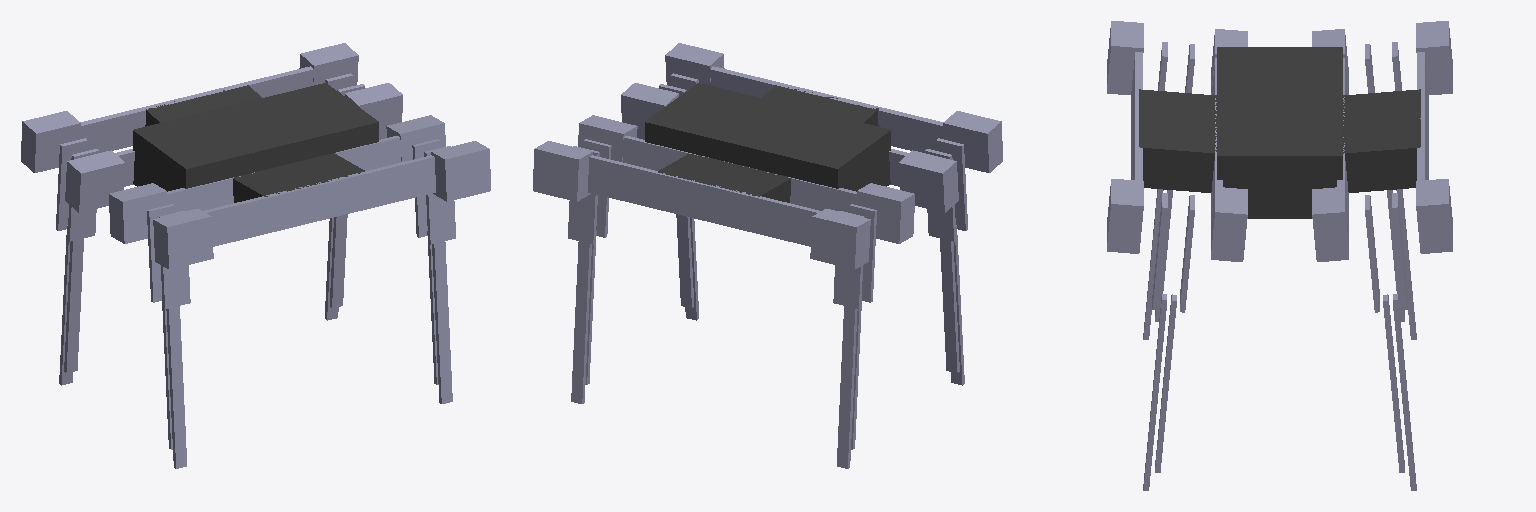
--- What the picture shows (computed from the rendered views, not written in the file) ---
Views: 3 orthographic renders of the robot side by side, from view 1: azimuth 30°, elevation 25°; view 2: azimuth 150°, elevation 25°; view 3: azimuth 270°, elevation 25°.
Model quadruped with 27 links and 26 joints (16 continuous, 10 fixed), rooted at base_chassis_link, posed every joint at zero.
Visible links, largest first — view 1: chassis_right, base_chassis_link, chassis_left, lower_leg_front_rightR_link, lower_leg_back_rightR_link, lower_leg_back_leftR_link, upper_leg_front_rightR_link, lower_leg_front_leftR_link, upper_leg_back_rightR_link, upper_leg_back_leftL_link, upper_leg_back_rightL_link, upper_leg_back_leftR_link (+5 smaller); view 2: chassis_left, base_chassis_link, chassis_right, lower_leg_front_leftL_link, lower_leg_back_leftL_link, lower_leg_back_rightL_link, upper_leg_front_leftL_link, lower_leg_front_rightL_link, upper_leg_back_leftL_link, upper_leg_back_rightR_link, upper_leg_back_leftR_link, upper_leg_back_rightL_link (+5 smaller); view 3: base_chassis_link, chassis_right, chassis_left, lower_leg_front_rightR_link, lower_leg_front_leftL_link, lower_leg_front_rightL_link, lower_leg_front_leftR_link, lower_leg_back_rightR_link, lower_leg_back_leftL_link, upper_leg_front_rightR_link, upper_leg_front_leftL_link, upper_leg_front_rightL_link (+1 smaller).
Boxes of the visible links, x1,y1,x2,y2 form: chassis_right: (109, 115, 490, 269); base_chassis_link: (133, 83, 378, 191); chassis_left: (21, 43, 402, 212); lower_leg_front_rightR_link: (432, 241, 452, 403); lower_leg_back_rightR_link: (166, 306, 186, 468); lower_leg_back_leftR_link: (64, 239, 83, 372); upper_leg_front_rightR_link: (424, 146, 455, 244); lower_leg_front_leftR_link: (330, 214, 347, 308); upper_leg_back_rightR_link: (159, 211, 190, 308); upper_leg_back_leftL_link: (56, 138, 87, 230); upper_leg_back_rightL_link: (147, 204, 174, 302); upper_leg_back_leftR_link: (67, 149, 99, 241); chassis_left: (533, 115, 914, 269); base_chassis_link: (645, 83, 890, 191); chassis_right: (621, 43, 1002, 212); lower_leg_front_leftL_link: (571, 241, 591, 403); lower_leg_back_leftL_link: (837, 306, 857, 468); lower_leg_back_rightL_link: (940, 239, 959, 372); upper_leg_front_leftL_link: (568, 146, 599, 244); lower_leg_front_rightL_link: (676, 214, 693, 308); upper_leg_back_leftL_link: (833, 211, 864, 308); upper_leg_back_rightR_link: (936, 138, 967, 230); upper_leg_back_leftR_link: (849, 204, 876, 302); upper_leg_back_rightL_link: (924, 149, 956, 241); base_chassis_link: (1217, 47, 1342, 218); chassis_right: (1107, 21, 1247, 261); chassis_left: (1312, 21, 1452, 261); lower_leg_front_rightR_link: (1143, 294, 1166, 490); lower_leg_front_leftL_link: (1393, 294, 1416, 490); lower_leg_front_rightL_link: (1155, 294, 1176, 472); lower_leg_front_leftR_link: (1383, 294, 1404, 472); lower_leg_back_rightR_link: (1143, 189, 1163, 339); lower_leg_back_leftL_link: (1396, 189, 1416, 339); upper_leg_front_rightR_link: (1152, 193, 1167, 310); upper_leg_front_leftL_link: (1392, 193, 1407, 310); upper_leg_front_rightL_link: (1180, 195, 1194, 312).
Size in the robot's own frame: 0.492 by 0.3932 by 0.3895 metres.
0 mesh visuals loaded from 1 distinct referenced files (none loaded); not drawn: 8 (reference not matched to a file when rendering).

URDF robot description (quadruped):
<?xml version="0.0" ?>
<!-- ======================================================================= -->
<!--LICENSE:                                                                 -->
<!--Copyright (c) 2017, Erwin Coumans                                        -->
<!--Google Inc.                                                              -->
<!--All rights reserved.                                                     -->
<!--                                                                         -->
<!--Redistribution and use in source and binary forms, with or without       -->
<!--modification, are permitted provided that the following conditions are   -->
<!--met:                                                                     -->
<!--                                                                         -->
<!--1. Redistributions or derived work must retain this copyright notice,    -->
<!--   this list of conditions and the following disclaimer.                 -->
<!--                                                                         -->
<!--2. Redistributions in binary form must reproduce the above copyright     -->
<!--   notice, this list of conditions and the following disclaimer in the   -->
<!--   documentation and/or other materials provided with the distribution.  -->
<!--                                                                         -->
<!--THIS SOFTWARE IS PROVIDED BY THE COPYRIGHT HOLDERS AND CONTRIBUTORS "AS  -->
<!--IS" AND ANY EXPRESS OR IMPLIED WARRANTIES, INCLUDING, BUT NOT LIMITED TO,-->
<!--THE IMPLIED WARRANTIES OF MERCHANTABILITY AND FITNESS FOR A PARTICULAR   -->
<!--PURPOSE ARE DISCLAIMED. IN NO EVENT SHALL THE COPYRIGHT HOLDER OR        -->
<!--CONTRIBUTORS BE LIABLE FOR ANY DIRECT, INDIRECT, INCIDENTAL, SPECIAL,    -->
<!--EXEMPLARY, OR CONSEQUENTIAL DAMAGES (INCLUDING, BUT NOT LIMITED TO,      -->
<!--PROCUREMENT OF SUBSTITUTE GOODS OR SERVICES; LOSS OF USE, DATA, OR       -->
<!--PROFITS; OR BUSINESS INTERRUPTION) HOWEVER CAUSED AND ON ANY THEORY OF   -->
<!--LIABILITY, WHETHER IN CONTRACT, STRICT LIABILITY, OR TORT (INCLUDING     -->
<!--NEGLIGENCE OR OTHERWISE) ARISING IN ANY WAY OUT OF THE USE OF THIS       -->
<!--SOFTWARE, EVEN IF ADVISED OF THE POSSIBILITY OF SUCH DAMAGE.             -->

<robot name="quadruped">
  <link name="base_chassis_link">
    <visual>
      <geometry>
        <box size=".295 0.142 .078"/>
      </geometry>
      <material name="black">
        <color rgba="0.3 0.3 0.3 1"/>
      </material>
    </visual>
    <collision>
      <geometry>
        <box size=".295 0.142 .078"/>
      </geometry>
    </collision>
    <inertial>
      <origin rpy="0.0 0 0" xyz="0.05 0 0"/>
      <mass value="1.81246"/>
      <inertia ixx="0.00474833" ixy="0.0" ixz="0.0" iyy="0.01386899" iyz="0.0" izz="0.01577876"/>
    </inertial>
  </link>

  <link name="chassis_right">
    <visual>
      <origin rpy="0 0 0" xyz="0 0 0"/>
      <geometry>
        <box size=".156 0.091 .050"/>
      </geometry>
      <material name="black">
        <color rgba="0.3 0.3 0.3 1"/>
      </material>
    </visual>
    <visual>
      <origin rpy="0 0 0" xyz="0 0.0455 0"/>
      <geometry>
        <box size=".356 0.009 .050"/>
      </geometry>
      <material name="grey">
        <color rgba="0.65 0.65 0.75 1"/>
      </material>
    </visual>
    <visual>
      <origin rpy="0 0 0" xyz="0 -0.0455 0"/>
      <geometry>
        <box size=".356 0.009 .050"/>
      </geometry>
      <material name="grey">
        <color rgba="0.65 0.65 0.75 1"/>
      </material>
    </visual>
    <visual>
      <origin rpy="0 0 0" xyz="0.212 -0.05915 0"/>
      <geometry>
        <box size=".068 0.0373 .060"/>
      </geometry>
      <material name="grey">
        <color rgba="0.65 0.65 0.75 1"/>
      </material>
    </visual>
    <visual>
      <origin rpy="0 0 0" xyz="0.212 0.05915 0"/>
      <geometry>
        <box size=".068 0.0373 .060"/>
      </geometry>
      <material name="grey">
        <color rgba="0.65 0.65 0.75 1"/>
      </material>
    </visual>
    <visual>
      <origin rpy="0 0 0" xyz="-0.212 -0.05915 0"/>
      <geometry>
        <box size=".068 0.0373 .060"/>
      </geometry>
      <material name="grey">
        <color rgba="0.65 0.65 0.75 1"/>
      </material>
    </visual>
    <visual>
      <origin rpy="0 0 0" xyz="-0.212 0.05915 0"/>
      <geometry>
        <box size=".068 0.0373 .060"/>
      </geometry>
      <material name="grey">
        <color rgba="0.65 0.65 0.75 1"/>
      </material>
    </visual>


    <collision>
      <origin rpy="0 0 0" xyz="0 0.1165 0"/>
      <geometry>
        <box size=".156 0.091 .050"/>
      </geometry>
    </collision>
    <!-- Inner Beam -->
    <collision>
      <origin rpy="0 0 0" xyz="0 0.0455 0"/>
      <geometry>
        <box size=".356 0.009 .050"/>
      </geometry>
    </collision>
    <!-- Outer Beam -->
    <collision>
      <origin rpy="0 0 0" xyz="0 -0.0455 0"/>
      <geometry>
        <box size=".356 0.009 .050"/>
      </geometry>
    </collision>
    <collision>
      <origin rpy="0 0 0" xyz="0.212 -0.05915 0"/>
      <geometry>
        <box size=".068 0.0373 .060"/>
      </geometry>
    </collision>
    <collision>
      <origin rpy="0 0 0" xyz="0.212 0.05915 0"/>
      <geometry>
        <box size=".068 0.0373 .060"/>
      </geometry>
    </collision>
    <collision>
      <origin rpy="0 0 0" xyz="-0.212 -0.05915 0"/>
      <geometry>
        <box size=".068 0.0373 .060"/>
      </geometry>
    </collision>
    <collision>
      <origin rpy="0 0 0" xyz="-0.212 0.05915 0"/>
      <geometry>
        <box size=".068 0.0373 .060"/>
      </geometry>
    </collision>

    <inertial>
      <mass value="1.3668"/>
      <inertia ixx="0.0038077" ixy="0.0" ixz="0.0" iyy="0.0328502" iyz="0.0" izz="0.03575585"/>
    </inertial>
  </link>

  <joint name="chassis_right_center" type="fixed">
    <axis xyz="0 0 1"/>
    <parent link="base_chassis_link"/>
    <child link="chassis_right"/>
    <origin rpy="-0.0872665 0 0" xyz="0.0 -0.1165 -0.011"/>
    <limit effort="100" velocity="100"/>
    <joint_properties damping="0.0" friction="0.0"/>
  </joint>

  <link name="chassis_left">
    <visual>
      <origin rpy="0 0 0" xyz="0 0 0"/>
      <geometry>
        <box size=".156 0.091 .050"/>
      </geometry>
      <material name="black">
        <color rgba="0.3 0.3 0.3 1"/>
      </material>
    </visual>
    <visual>
      <origin rpy="0 0 0" xyz="0 0.0455 0"/>
      <geometry>
        <box size=".356 0.009 .050"/>
      </geometry>
      <material name="grey">
        <color rgba="0.65 0.65 0.75 1"/>
      </material>
    </visual>
    <visual>
      <origin rpy="0 0 0" xyz="0 -0.0455 0"/>
      <geometry>
        <box size=".356 0.009 .050"/>
      </geometry>
      <material name="grey">
        <color rgba="0.65 0.65 0.75 1"/>
      </material>
    </visual>
    <visual>
      <origin rpy="0 0 0" xyz="0.212 -0.05915 0"/>
      <geometry>
        <box size=".068 0.0373 .060"/>
      </geometry>
      <material name="grey">
        <color rgba="0.65 0.65 0.75 1"/>
      </material>
    </visual>
    <visual>
      <origin rpy="0 0 0" xyz="0.212 0.05915 0"/>
      <geometry>
        <box size=".068 0.0373 .060"/>
      </geometry>
      <material name="grey">
        <color rgba="0.65 0.65 0.75 1"/>
      </material>
    </visual>
    <visual>
      <origin rpy="0 0 0" xyz="-0.212 -0.05915 0"/>
      <geometry>
        <box size=".068 0.0373 .060"/>
      </geometry>
      <material name="grey">
        <color rgba="0.65 0.65 0.75 1"/>
      </material>
    </visual>
    <visual>
      <origin rpy="0 0 0" xyz="-0.212 0.05915 0"/>
      <geometry>
        <box size=".068 0.0373 .060"/>
      </geometry>
      <material name="grey">
        <color rgba="0.65 0.65 0.75 1"/>
      </material>
    </visual>


    <collision>
      <!-- JOSH EDITED to make it not stick outside of the robot -->
      <origin rpy="0 0 0" xyz="0 -0.1165 0"/>
      <geometry>
        <box size=".156 0.091 .050"/>
      </geometry>
    </collision>
    <collision>
      <origin rpy="0 0 0" xyz="0 0.0455 0"/>
      <geometry>
        <box size=".356 0.009 .050"/>
      </geometry>
    </collision>
    <collision>
      <origin rpy="0 0 0" xyz="0 -0.0455 0"/>
      <geometry>
        <box size=".356 0.009 .050"/>
      </geometry>
    </collision>
    <collision>
      <origin rpy="0 0 0" xyz="0.212 -0.05915 0"/>
      <geometry>
        <box size=".068 0.0373 .060"/>
      </geometry>
    </collision>
    <collision>
      <origin rpy="0 0 0" xyz="0.212 0.05915 0"/>
      <geometry>
        <box size=".068 0.0373 .060"/>
      </geometry>
    </collision>
    <collision>
      <origin rpy="0 0 0" xyz="-0.212 -0.05915 0"/>
      <geometry>
        <box size=".068 0.0373 .060"/>
      </geometry>
    </collision>
    <collision>
      <origin rpy="0 0 0" xyz="-0.212 0.05915 0"/>
      <geometry>
        <box size=".068 0.0373 .060"/>
      </geometry>
    </collision>

    <inertial>
      <mass value="1.3668"/>
      <inertia ixx="0.0038077" ixy="0.0" ixz="0.0" iyy="0.0328502" iyz="0.0" izz="0.03575585"/>
    </inertial>
  </link>

  <joint name="chassis_left_center" type="fixed">
    <axis xyz="0 0 1"/>
    <parent link="base_chassis_link"/>
    <child link="chassis_left"/>
    <origin rpy="0.0872665 0 0" xyz="0.0 0.1165 -0.011"/>
    <limit effort="100" velocity="100"/>
    <joint_properties damping="0.0" friction="0.0"/>
  </joint>

  <link name="motor_front_rightR_link">
    <visual>
      <geometry>
        <mesh filename="tmotor3.obj" scale="1 1 1"/>
      </geometry>
      <material name="white">
        <color rgba="1 1 1 1"/>
      </material>
    </visual>
    <collision>
      <geometry>
        <cylinder length="0.0165" radius="0.0425"/>
      </geometry>
    </collision>
    <inertial>
      <mass value="0.241"/>
      <inertia ixx="0.00011397" ixy="0.0" ixz="0.0" iyy="0.00011397" iyz="0.0" izz="0.00021765"/>
    </inertial>
  </link>
  <!-- <joint name="motor_front_rightR_joint" type="continuous"> -->
  <joint name="5" type="continuous">
    <axis xyz="0 0 1"/>
    <parent link="chassis_right"/>
    <child link="motor_front_rightR_link"/>
    <origin rpy="1.57075 3.141592 0" xyz="0.20268 -0.03275 0"/>
    <limit effort="100" velocity="100"/>
    <joint_properties damping="0.0" friction="0.0"/>
  </joint>

  <link name="motor_front_rightL_link">
    <visual>
      <geometry>
        <mesh filename="tmotor3.obj" scale="1 1 1"/>
      </geometry>
      <material name="white">
        <color rgba="1 1 1 1"/>
      </material>
    </visual>
    <collision>
      <geometry>
        <cylinder length="0.0165" radius="0.0425"/>
      </geometry>
    </collision>
    <inertial>
      <mass value="0.241"/>
      <inertia ixx="0.00011397" ixy="0.0" ixz="0.0" iyy="0.00011397" iyz="0.0" izz="0.00021765"/>
    </inertial>
  </link>
  <joint name="4" type="continuous">
    <axis xyz="0 0 1"/>
    <parent link="chassis_right"/>
    <child link="motor_front_rightL_link"/>
    <origin rpy="1.57075 3.141592 3.141592" xyz="0.20268 0.03275 0"/>
    <limit effort="100" velocity="100"/>
    <joint_properties damping="0.0" friction="0.0"/>
  </joint>

  <link name="motor_front_leftL_link">
    <visual>
      <geometry>
        <mesh filename="tmotor3.obj" scale="1 1 1"/>
      </geometry>
      <material name="white">
        <color rgba="1 1 1 1"/>
      </material>
    </visual>
    <collision>
      <geometry>
        <cylinder length="0.0165" radius="0.0425"/>
      </geometry>
    </collision>
    <inertial>
      <mass value="0.241"/>
      <inertia ixx="0.00011397" ixy="0.0" ixz="0.0" iyy="0.00011397" iyz="0.0" izz="0.00021765"/>
    </inertial>
  </link>
  <joint name="0" type="continuous">
    <axis xyz="0 0 1"/>
    <parent link="chassis_left"/>
    <child link="motor_front_leftL_link"/>
    <origin rpy="1.57075 3.141592 3.141592" xyz="0.20268 0.03275 0"/>
    <limit effort="100" velocity="100"/>
    <joint_properties damping="0.0" friction="0.0"/>
  </joint>

  <link name="motor_front_leftR_link">
    <visual>
      <geometry>
        <mesh filename="tmotor3.obj" scale="1 1 1"/>
      </geometry>
      <material name="white">
        <color rgba="1 1 1 1"/>
      </material>
    </visual>
    <collision>
      <geometry>
        <cylinder length="0.0165" radius="0.0425"/>
      </geometry>
    </collision>
    <inertial>
      <mass value="0.241"/>
      <inertia ixx="0.00011397" ixy="0.0" ixz="0.0" iyy="0.00011397" iyz="0.0" izz="0.00021765"/>
    </inertial>
  </link>
  <joint name="1" type="continuous">
    <axis xyz="0 0 1"/>
    <parent link="chassis_left"/>
    <child link="motor_front_leftR_link"/>
    <origin rpy="1.57075 3.141592 0" xyz="0.20268 -0.03275 0"/>
    <limit effort="100" velocity="100"/>
    <joint_properties damping="0.0" friction="0.0"/>
  </joint>

  <link name="motor_back_rightR_link">
    <visual>
      <geometry>
        <mesh filename="tmotor3.obj" scale="1 1 1"/>
      </geometry>
      <material name="white">
        <color rgba="1 1 1 1"/>
      </material>
    </visual>
    <collision>
      <geometry>
        <cylinder length="0.0165" radius="0.0425"/>
      </geometry>
    </collision>
    <inertial>
      <mass value="0.241"/>
      <inertia ixx="0.00011397" ixy="0.0" ixz="0.0" iyy="0.00011397" iyz="0.0" izz="0.00021765"/>
    </inertial>
  </link>
  <joint name="7" type="continuous">
    <axis xyz="0 0 1"/>
    <parent link="chassis_right"/>
    <child link="motor_back_rightR_link"/>
    <origin rpy="1.57075 3.141592 0" xyz="-0.20268 -0.03275 0"/>
    <limit effort="100" velocity="100"/>
    <joint_properties damping="0.0" friction="0.0"/>
  </joint>

  <link name="motor_back_rightL_link">
    <visual>
      <geometry>
        <mesh filename="tmotor3.obj" scale="1 1 1"/>
      </geometry>
      <material name="white">
        <color rgba="1 1 1 1"/>
      </material>
    </visual>
    <collision>
      <geometry>
        <cylinder length="0.0165" radius="0.0425"/>
      </geometry>
    </collision>
    <inertial>
      <mass value="0.241"/>
      <inertia ixx="0.00011397" ixy="0.0" ixz="0.0" iyy="0.00011397" iyz="0.0" izz="0.00021765"/>
    </inertial>
  </link>
  <joint name="6" type="continuous">
    <axis xyz="0 0 1"/>
    <parent link="chassis_right"/>
    <child link="motor_back_rightL_link"/>
    <origin rpy="1.57075 3.141592 3.141592" xyz="-0.20268 0.03275 0"/>
    <limit effort="100" velocity="100"/>
    <joint_properties damping="0.0" friction="0.0"/>
  </joint>

  <link name="motor_back_leftL_link">
    <visual>
      <geometry>
        <mesh filename="tmotor3.obj" scale="1 1 1"/>
      </geometry>
      <material name="white">
        <color rgba="1 1 1 1"/>
      </material>
    </visual>
    <collision>
      <geometry>
        <cylinder length="0.0165" radius="0.0425"/>
      </geometry>
    </collision>
    <inertial>
      <mass value="0.241"/>
      <inertia ixx="0.00011397" ixy="0.0" ixz="0.0" iyy="0.00011397" iyz="0.0" izz="0.00021765"/>
    </inertial>
  </link>
  <joint name="2" type="continuous">
    <axis xyz="0 0 1"/>
    <parent link="chassis_left"/>
    <child link="motor_back_leftL_link"/>
    <origin rpy="1.57075 3.141592 3.141592" xyz="-0.20268 0.03275 0"/>
    <limit effort="100" velocity="100"/>
    <joint_properties damping="0.0" friction="0.0"/>
  </joint>

  <link name="motor_back_leftR_link">
    <visual>
      <geometry>
        <mesh filename="tmotor3.obj" scale="1 1 1"/>
      </geometry>
      <material name="white">
        <color rgba="1 1 1 1"/>
      </material>
    </visual>
    <collision>
      <geometry>
        <cylinder length="0.0165" radius="0.0425"/>
      </geometry>
    </collision>
    <inertial>
      <mass value="0.241"/>
      <inertia ixx="0.00011397" ixy="0.0" ixz="0.0" iyy="0.00011397" iyz="0.0" izz="0.00021765"/>
    </inertial>
  </link>
  <joint name="3" type="continuous">
    <axis xyz="0 0 1"/>
    <parent link="chassis_left"/>
    <child link="motor_back_leftR_link"/>
    <origin rpy="1.57075 3.141592 0" xyz="-0.20268 -0.03275 0"/>
    <limit effort="100" velocity="100"/>
    <joint_properties damping="0.0" friction="0.0"/>
  </joint>


  <link name="upper_leg_front_rightR_link">
    <visual>
      <geometry>
        <box size=".039 0.0064 .129"/>
      </geometry>
      <material name="grey">
        <color rgba="0.65 0.65 0.75 1"/>
      </material>
    </visual>
    <collision>
      <geometry>
        <box size=".039 0.0064 .129"/>
      </geometry>
    </collision>
    <inertial>
      <mass value="0.026"/>
      <inertia ixx="0.000038770" ixy="0.0" ixz="0.0" iyy="0.000042198" iyz="0.0"
          izz="0.0000036030"/>
    </inertial>
  </link>
  <joint name="hip_front_rightR_joint" type="fixed">
    <axis xyz="0 0 1"/>
    <parent link="motor_front_rightR_link"/>
    <child link="upper_leg_front_rightR_link"/>
    <origin rpy="-1.57075 0 0" xyz="0.0 0.045 -0.01725"/>
    <limit effort="100" velocity="100"/>
    <joint_properties damping="0.0" friction="0.0"/>
  </joint>

  <link name="lower_leg_front_rightR_link">
    <contact>
      <friction_anchor/>
      <stiffness value="30000.0"/>
      <damping value="1000.0"/>
      <spinning_friction value=".3"/>
      <lateral_friction value="1"/>
    </contact>

    <visual>
      <origin rpy="0.0 0 0" xyz="0 0 0.120"/>
      <geometry>
        <box size="0.017 0.0064 0.240"/>
      </geometry>
      <material name="grey">
        <color rgba="0.65 0.65 0.75 1"/>
      </material>
    </visual>
    <collision>
      <origin rpy="0.0 0 0" xyz="0 0 0.120"/>
      <geometry>
        <box size="0.017 0.0064 0.240"/>
      </geometry>
    </collision>
    <inertial>
      <origin rpy="0.0 0 0" xyz="0 0 0.120"/>
      <mass value="0.066"/>
      <inertia ixx="0.00032459" ixy="0.0" ixz="0.0" iyy="0.00032637" iyz="0.0" izz="0.000002178"/>
    </inertial>
  </link>
  <joint name="knee_front_rightR_joint" type="continuous">
    <axis xyz="0 1 0"/>
    <parent link="upper_leg_front_rightR_link"/>
    <child link="lower_leg_front_rightR_link"/>
    <origin rpy="0 0 0" xyz="0.0 0.01 .056"/>
    <limit effort="100" velocity="100"/>
    <joint_properties damping="0.0" friction="0.0"/>
  </joint>

  <link name="upper_leg_front_rightL_link">
    <visual>
      <geometry>
        <box size=".039 0.0064 .129"/>
      </geometry>
      <material name="grey">
        <color rgba="0.65 0.65 0.75 1"/>
      </material>
    </visual>
    <collision>
      <geometry>
        <box size=".039 0.0064 .129"/>
      </geometry>
    </collision>
    <inertial>
      <mass value="0.026"/>
      <inertia ixx="0.000038770" ixy="0.0" ixz="0.0" iyy="0.000042198" iyz="0.0"
          izz="0.0000036030"/>
    </inertial>
  </link>
  <joint name="hip_front_rightL_joint" type="fixed">
    <axis xyz="0 0 1"/>
    <parent link="motor_front_rightL_link"/>
    <child link="upper_leg_front_rightL_link"/>
    <origin rpy="-1.57075 0 0" xyz="0.0 0.045 -0.01725"/>
    <limit effort="100" velocity="100"/>
    <joint_properties damping="0.0" friction="0.0"/>
  </joint>

  <link name="lower_leg_front_rightL_link">
    <contact>
      <friction_anchor/>
      <stiffness value="30000.0"/>
      <damping value="1000.0"/>
      <spinning_friction value=".3"/>
      <lateral_friction value="1"/>
    </contact>

    <visual>
      <origin rpy="0.0 0 0" xyz="0 0 .108"/>
      <geometry>
        <box size="0.017 0.0064 0.216"/>
      </geometry>
      <material name="grey">
        <color rgba="0.65 0.65 0.75 1"/>
      </material>
    </visual>
    <collision>
      <origin rpy="0.0 0 0" xyz="0 0 .108"/>
      <geometry>
        <box size="0.017 0.0064 0.216"/>
      </geometry>
    </collision>
    <inertial>
      <origin rpy="0.0 0 0" xyz="0 0 .1"/>
      <mass value="0.055"/>
      <inertia ixx="0.00023166" ixy="0.0" ixz="0.0" iyy="0.00023325" iyz="0.0" izz="0.00000198"/>
    </inertial>
  </link>
  <joint name="knee_front_rightL_joint" type="continuous">
    <axis xyz="0 1 0"/>
    <parent link="upper_leg_front_rightL_link"/>
    <child link="lower_leg_front_rightL_link"/>
    <origin rpy="0 0 0" xyz="0.0 0.01 .056"/>
    <limit effort="100" velocity="100"/>
    <joint_properties damping="0.0" friction="0.0"/>
  </joint>


  <link name="upper_leg_front_leftR_link">
    <visual>
      <geometry>
        <box size=".039 0.0064 .129"/>
      </geometry>
      <material name="grey">
        <color rgba="0.65 0.65 0.75 1"/>
      </material>
    </visual>
    <collision>
      <geometry>
        <box size=".039 0.0064 .129"/>
      </geometry>
    </collision>
    <inertial>
      <mass value="0.026"/>
      <inertia ixx="0.000038770" ixy="0.0" ixz="0.0" iyy="0.000042198" iyz="0.0"
          izz="0.0000036030"/>
    </inertial>
  </link>
  <joint name="hip_front_leftR_joint" type="fixed">
    <axis xyz="0 0 1"/>
    <parent link="motor_front_leftR_link"/>
    <child link="upper_leg_front_leftR_link"/>
    <origin rpy="-1.57075 0 0" xyz="0.0 0.045 -0.01725"/>
    <limit effort="100" velocity="100"/>
    <joint_properties damping="0.0" friction="0.0"/>
  </joint>

  <link name="lower_leg_front_leftR_link">
    <contact>
      <friction_anchor/>
      <stiffness value="30000.0"/>
      <damping value="1000.0"/>
      <spinning_friction value=".3"/>
      <lateral_friction value="1"/>
    </contact>

    <visual>
      <origin rpy="0.0 0 0" xyz="0 0 .108"/>
      <geometry>
        <box size="0.017 0.0064 0.216"/>
      </geometry>
      <material name="grey">
        <color rgba="0.65 0.65 0.75 1"/>
      </material>
    </visual>
    <collision>
      <origin rpy="0.0 0 0" xyz="0 0 .108"/>
      <geometry>
        <box size="0.017 0.0064 0.216"/>
      </geometry>
    </collision>
    <inertial>
      <origin rpy="0.0 0 0" xyz="0 0 .1"/>
      <mass value="0.055"/>
      <inertia ixx="0.00023166" ixy="0.0" ixz="0.0" iyy="0.00023325" iyz="0.0" izz="0.00000198"/>
    </inertial>
  </link>
  <joint name="knee_front_leftR_joint" type="continuous">
    <axis xyz="0 1 0"/>
    <parent link="upper_leg_front_leftR_link"/>
    <child link="lower_leg_front_leftR_link"/>
    <origin rpy="0 0 0" xyz="0.0 0.01 .056"/>
    <limit effort="100" velocity="100"/>
    <joint_properties damping="0.0" friction="0.0"/>
  </joint>

  <link name="upper_leg_front_leftL_link">
    <visual>
      <geometry>
        <box size=".039 0.0064 .129"/>
      </geometry>
      <material name="grey">
        <color rgba="0.65 0.65 0.75 1"/>
      </material>
    </visual>
    <collision>
      <geometry>
        <box size=".039 0.0064 .129"/>
      </geometry>
    </collision>
    <inertial>
      <mass value="0.026"/>
      <inertia ixx="0.000038770" ixy="0.0" ixz="0.0" iyy="0.000042198" iyz="0.0"
          izz="0.0000036030"/>
    </inertial>
  </link>
  <joint name="hip_front_leftL_joint" type="fixed">
    <axis xyz="0 0 1"/>
    <parent link="motor_front_leftL_link"/>
    <child link="upper_leg_front_leftL_link"/>
    <origin rpy="-1.57075 0 0" xyz="0.0 0.045 -0.01725"/>
    <limit effort="100" velocity="100"/>
    <joint_properties damping="0.0" friction="0.0"/>
  </joint>

  <link name="lower_leg_front_leftL_link">
    <contact>
      <friction_anchor/>
      <stiffness value="30000.0"/>
      <damping value="1000.0"/>
      <spinning_friction value=".3"/>
      <lateral_friction value="1"/>
    </contact>

    <visual>
      <origin rpy="0.0 0 0" xyz="0 0 0.120"/>
      <geometry>
        <box size="0.017 0.0064 0.240"/>
      </geometry>
      <material name="grey">
        <color rgba="0.65 0.65 0.75 1"/>
      </material>
    </visual>
    <collision>
      <origin rpy="0.0 0 0" xyz="0 0 0.120"/>
      <geometry>
        <box size="0.017 0.0064 0.240"/>
      </geometry>
    </collision>
    <inertial>
      <origin rpy="0.0 0 0" xyz="0 0 0.120"/>
      <mass value="0.066"/>
      <inertia ixx="0.00032459" ixy="0.0" ixz="0.0" iyy="0.00032637" iyz="0.0" izz="0.000002178"/>
    </inertial>
  </link>
  <joint name="knee_front_leftL_joint" type="continuous">
    <axis xyz="0 1 0"/>
    <parent link="upper_leg_front_leftL_link"/>
    <child link="lower_leg_front_leftL_link"/>
    <origin rpy="0 0 0" xyz="0.0 0.01 .056"/>
    <limit effort="100" velocity="100"/>
    <joint_properties damping="0.0" friction="0.0"/>
  </joint>


  <link name="upper_leg_back_rightR_link">
    <visual>
      <geometry>
        <box size=".039 0.0064 .129"/>
      </geometry>
      <material name="grey">
        <color rgba="0.65 0.65 0.75 1"/>
      </material>
    </visual>
    <collision>
      <geometry>
        <box size=".039 0.0064 .129"/>
      </geometry>
    </collision>
    <inertial>
      <mass value="0.026"/>
      <inertia ixx="0.000038770" ixy="0.0" ixz="0.0" iyy="0.000042198" iyz="0.0"
          izz="0.0000036030"/>
    </inertial>
  </link>
  <joint name="hip_back_rightR_joint" type="fixed">
    <axis xyz="0 0 1"/>
    <parent link="motor_back_rightR_link"/>
    <child link="upper_leg_back_rightR_link"/>
    <origin rpy="-1.57075 0 0" xyz="0.0 0.045 -0.01725"/>
    <limit effort="100" velocity="100"/>
    <joint_properties damping="0.0" friction="0.0"/>
  </joint>

  <link name="lower_leg_back_rightR_link">
    <contact>
      <friction_anchor/>
      <stiffness value="30000.0"/>
      <damping value="1000.0"/>
      <spinning_friction value=".3"/>
      <lateral_friction value="1"/>
    </contact>

    <visual>
      <origin rpy="0.0 0 0" xyz="0 0 0.120"/>
      <geometry>
        <box size="0.017 0.0064 0.240"/>
      </geometry>
      <material name="grey">
        <color rgba="0.65 0.65 0.75 1"/>
      </material>
    </visual>
    <collision>
      <origin rpy="0.0 0 0" xyz="0 0 0.120"/>
      <geometry>
        <box size="0.017 0.0064 0.240"/>
      </geometry>
    </collision>
    <inertial>
      <origin rpy="0.0 0 0" xyz="0 0 0.120"/>
      <mass value="0.066"/>
      <inertia ixx="0.00032459" ixy="0.0" ixz="0.0" iyy="0.00032637" iyz="0.0" izz="0.000002178"/>
    </inertial>
  </link>
  <joint name="knee_back_rightR_joint" type="continuous">
    <axis xyz="0 1 0"/>
    <parent link="upper_leg_back_rightR_link"/>
    <child link="lower_leg_back_rightR_link"/>
    <origin rpy="0 0 0" xyz="0.0 0.01 .056"/>
    <limit effort="100" velocity="100"/>
    <joint_properties damping="0.0" friction="0.0"/>
  </joint>

  <link name="upper_leg_back_rightL_link">
    <visual>
      <geometry>
        <box size=".039 0.0064 .129"/>
      </geometry>
      <material name="grey">
        <color rgba="0.65 0.65 0.75 1"/>
      </material>
    </visual>
    <collision>
      <geometry>
        <box size=".039 0.0064 .129"/>
      </geometry>
    </collision>
    <inertial>
      <mass value="0.026"/>
      <inertia ixx="0.000038770" ixy="0.0" ixz="0.0" iyy="0.000042198" iyz="0.0"
          izz="0.0000036030"/>
    </inertial>
  </link>
  <joint name="hip_back_rightL_joint" type="fixed">
    <axis xyz="0 0 1"/>
    <parent link="motor_back_rightL_link"/>
    <child link="upper_leg_back_rightL_link"/>
    <origin rpy="-1.57075 0 0" xyz="0.0 0.045 -0.01725"/>
    <limit effort="100" velocity="100"/>
    <joint_properties damping="0.0" friction="0.0"/>
  </joint>

  <link name="lower_leg_back_rightL_link">
    <contact>
      <friction_anchor/>
      <stiffness value="30000.0"/>
      <damping value="1000.0"/>
      <spinning_friction value=".3"/>
      <lateral_friction value="1"/>
    </contact>

    <visual>
      <origin rpy="0.0 0 0" xyz="0 0 .108"/>
      <geometry>
        <box size="0.017 0.0064 0.216"/>
      </geometry>
      <material name="grey">
        <color rgba="0.65 0.65 0.75 1"/>
      </material>
    </visual>
    <collision>
      <origin rpy="0.0 0 0" xyz="0 0 .108"/>
      <geometry>
        <box size="0.017 0.0064 0.216"/>
      </geometry>
    </collision>
    <inertial>
      <origin rpy="0.0 0 0" xyz="0 0 .1"/>
      <mass value="0.055"/>
      <inertia ixx="0.00023166" ixy="0.0" ixz="0.0" iyy="0.00023325" iyz="0.0" izz="0.00000198"/>
    </inertial>
  </link>
  <joint name="knee_back_rightL_joint" type="continuous">
    <axis xyz="0 1 0"/>
    <parent link="upper_leg_back_rightL_link"/>
    <child link="lower_leg_back_rightL_link"/>
    <origin rpy="0 0 0" xyz="0.0 0.01 .056"/>
    <limit effort="100" velocity="100"/>
    <joint_properties damping="0.0" friction="0.0"/>
  </joint>


  <link name="upper_leg_back_leftR_link">
    <visual>
      <geometry>
        <box size=".039 0.0064 .129"/>
      </geometry>
      <material name="grey">
        <color rgba="0.65 0.65 0.75 1"/>
      </material>
    </visual>
    <collision>
      <geometry>
        <box size=".039 0.0064 .129"/>
      </geometry>
    </collision>
    <inertial>
      <mass value="0.026"/>
      <inertia ixx="0.000038770" ixy="0.0" ixz="0.0" iyy="0.000042198" iyz="0.0"
          izz="0.0000036030"/>
    </inertial>
  </link>
  <joint name="hip_back_leftR_joint" type="fixed">
    <axis xyz="0 0 1"/>
    <parent link="motor_back_leftR_link"/>
    <child link="upper_leg_back_leftR_link"/>
    <origin rpy="-1.57075 0 0" xyz="0.0 0.045 -0.01725"/>
    <limit effort="100" velocity="100"/>
    <joint_properties damping="0.0" friction="0.0"/>
  </joint>

  <link name="lower_leg_back_leftR_link">
    <contact>
      <friction_anchor/>
      <stiffness value="30000.0"/>
      <damping value="1000.0"/>
      <spinning_friction value=".3"/>
      <lateral_friction value="1"/>
    </contact>

    <visual>
      <origin rpy="0.0 0 0" xyz="0 0 .108"/>
      <geometry>
        <box size="0.017 0.0064 0.216"/>
      </geometry>
      <material name="grey">
        <color rgba="0.65 0.65 0.75 1"/>
      </material>
    </visual>
    <collision>
      <origin rpy="0.0 0 0" xyz="0 0 .108"/>
      <geometry>
        <box size="0.017 0.0064 0.216"/>
      </geometry>
    </collision>
    <inertial>
      <origin rpy="0.0 0 0" xyz="0 0 .1"/>
      <mass value="0.055"/>
      <inertia ixx="0.00023166" ixy="0.0" ixz="0.0" iyy="0.00023325" iyz="0.0" izz="0.00000198"/>
    </inertial>
  </link>
  <joint name="knee_back_leftR_joint" type="continuous">
    <axis xyz="0 1 0"/>
    <parent link="upper_leg_back_leftR_link"/>
    <child link="lower_leg_back_leftR_link"/>
    <origin rpy="0 0 0" xyz="0.0 0.01 .056"/>
    <limit effort="100" velocity="100"/>
    <joint_properties damping="0.0" friction="0.0"/>
  </joint>

  <link name="upper_leg_back_leftL_link">
    <visual>
      <geometry>
        <box size=".039 0.0064 .129"/>
      </geometry>
      <material name="grey">
        <color rgba="0.65 0.65 0.75 1"/>
      </material>
    </visual>
    <collision>
      <geometry>
        <box size=".039 0.0064 .129"/>
      </geometry>
    </collision>
    <inertial>
      <mass value="0.026"/>
      <inertia ixx="0.000038770" ixy="0.0" ixz="0.0" iyy="0.000042198" iyz="0.0"
          izz="0.0000036030"/>
    </inertial>
  </link>
  <joint name="hip_back_leftL_joint" type="fixed">
    <axis xyz="0 0 1"/>
    <parent link="motor_back_leftL_link"/>
    <child link="upper_leg_back_leftL_link"/>
    <origin rpy="-1.57075 0 0" xyz="0.0 0.045 -0.01725"/>
    <limit effort="100" velocity="100"/>
    <joint_properties damping="0.0" friction="0.0"/>
  </joint>

  <link name="lower_leg_back_leftL_link">
    <contact>
      <friction_anchor/>
      <stiffness value="30000.0"/>
      <damping value="1000.0"/>
      <spinning_friction value=".3"/>
      <lateral_friction value="1"/>
    </contact>

    <visual>
      <origin rpy="0.0 0 0" xyz="0 0 0.120"/>
      <geometry>
        <box size="0.017 0.0064 0.240"/>
      </geometry>
      <material name="grey">
        <color rgba="0.65 0.65 0.75 1"/>
      </material>
    </visual>
    <collision>
      <origin rpy="0.0 0 0" xyz="0 0 0.120"/>
      <geometry>
        <box size="0.017 0.0064 0.240"/>
      </geometry>
    </collision>
    <inertial>
      <origin rpy="0.0 0 0" xyz="0 0 0.120"/>
      <mass value="0.066"/>
      <inertia ixx="0.00032459" ixy="0.0" ixz="0.0" iyy="0.00032637" iyz="0.0" izz="0.000002178"/>
    </inertial>
  </link>
  <joint name="knee_back_leftL_joint" type="continuous">
    <axis xyz="0 1 0"/>
    <parent link="upper_leg_back_leftL_link"/>
    <child link="lower_leg_back_leftL_link"/>
    <origin rpy="0 0 0" xyz="0.0 0.01 .056"/>
    <limit effort="100" velocity="100"/>
    <joint_properties damping="0.0" friction="0.0"/>
  </joint>

</robot>
